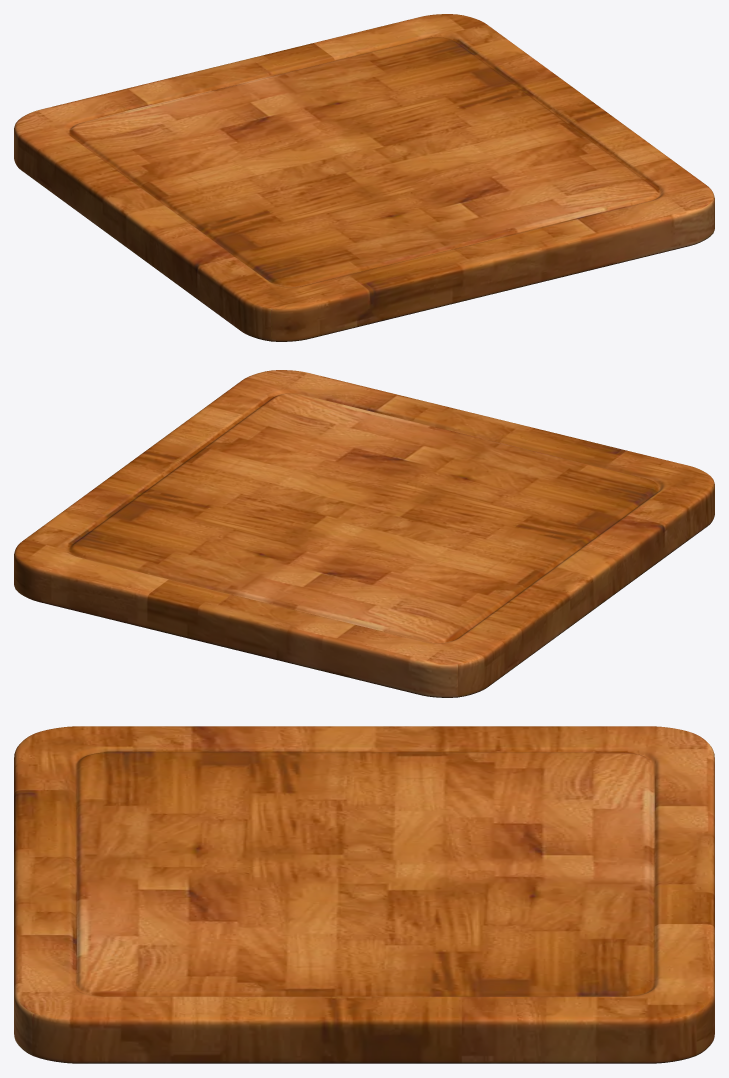
The model's file is board-2.glb.
3 renders of one model, top to bottom at view 1: azimuth 30°, elevation 25°; view 2: azimuth 150°, elevation 25°; view 3: azimuth 270°, elevation 25°, orthographic. The views are drawn at different scales.
Parts seen in each view (by area): view 1: 10330_Wooden Cutting Board_v2_max2010_it2; view 2: 10330_Wooden Cutting Board_v2_max2010_it2; view 3: 10330_Wooden Cutting Board_v2_max2010_it2.
Part boxes in pixels (x1,y1,x2,y2): 10330_Wooden Cutting Board_v2_max2010_it2: (14, 14, 714, 341); 10330_Wooden Cutting Board_v2_max2010_it2: (14, 370, 714, 697); 10330_Wooden Cutting Board_v2_max2010_it2: (14, 726, 714, 1063).
Bounding box in the file's own units: 19.44 × 1.37 × 19.44.
Materials: 1 (1 with a texture image).
